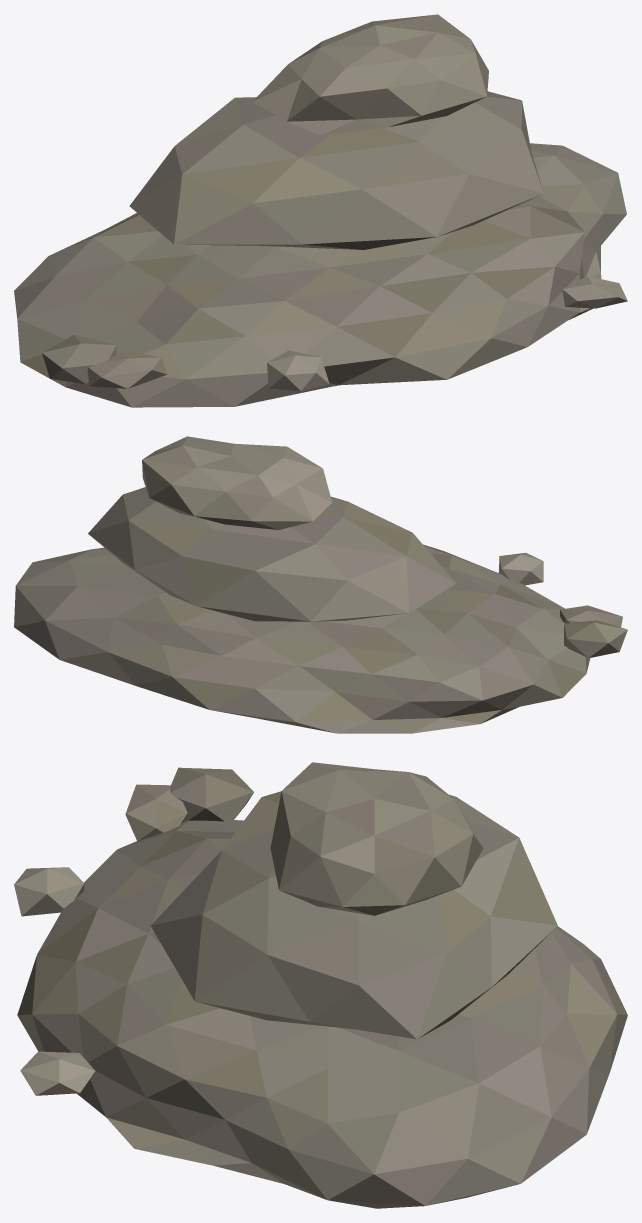
The model's file is env_karst.glb.
3 renders of one model, top to bottom at view 1: azimuth 30°, elevation 25°; view 2: azimuth 150°, elevation 25°; view 3: azimuth 270°, elevation 25°, orthographic. The views are drawn at different scales.
Parts seen in each view (by area): view 1: env_karst; view 2: env_karst; view 3: env_karst.
Boxes of the visible parts, left/top/right/bottom form: env_karst: left=14, top=14, right=627, bottom=407; env_karst: left=14, top=436, right=627, bottom=733; env_karst: left=14, top=762, right=627, bottom=1208.
Size of the model in its own units: 11.7 by 4.31 by 7.85.
